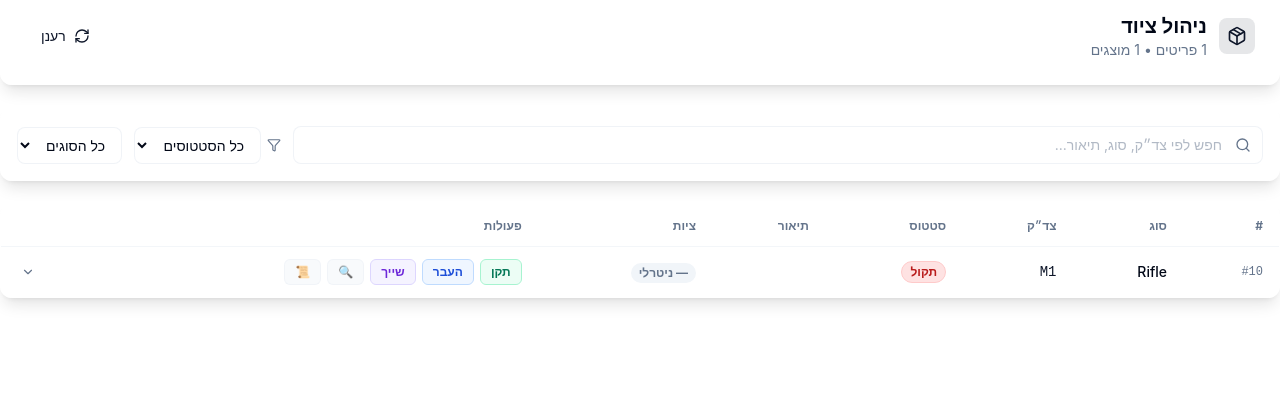
Scenario: EquipmentPage inline history: collapsing the row aborts its read (FE-H5) › aborts the history request and logs nothing when it is cancelled
Expected: the button "העבר" is shown, [422,259,474,285]
Click the 2nd button.
click(28, 272)  # box [17,260,39,282]
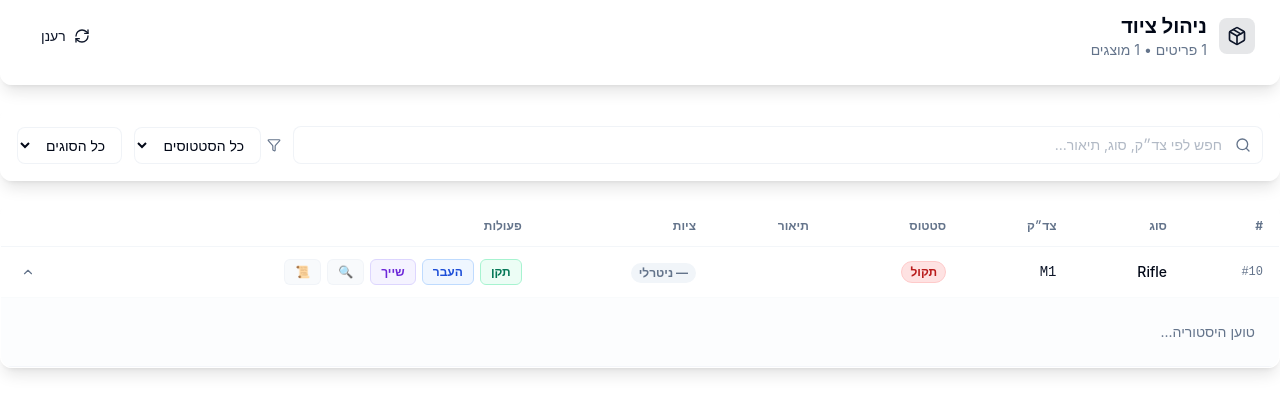
Expected: the text "טוען היסטוריה..." is shown, [1160,323,1255,340]
Click the 2nd button.
click(28, 272)  # box [17,260,39,282]
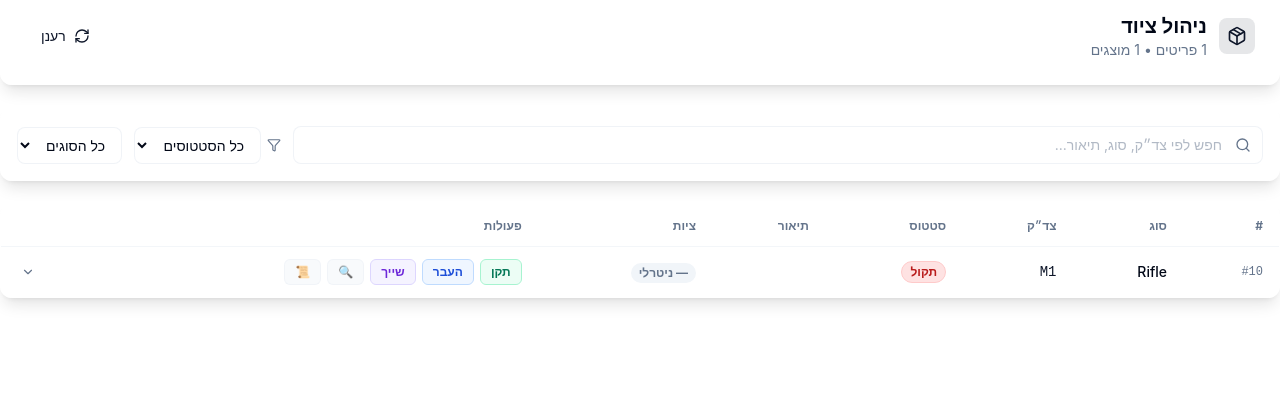
Expected: the text "טוען היסטוריה..." is gone
